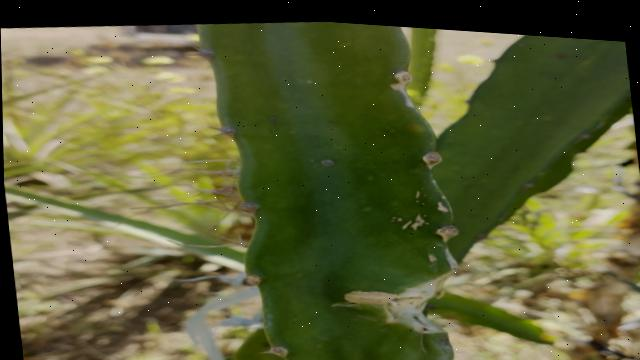stemcanker: (392, 206, 446, 247), (314, 147, 349, 180)
